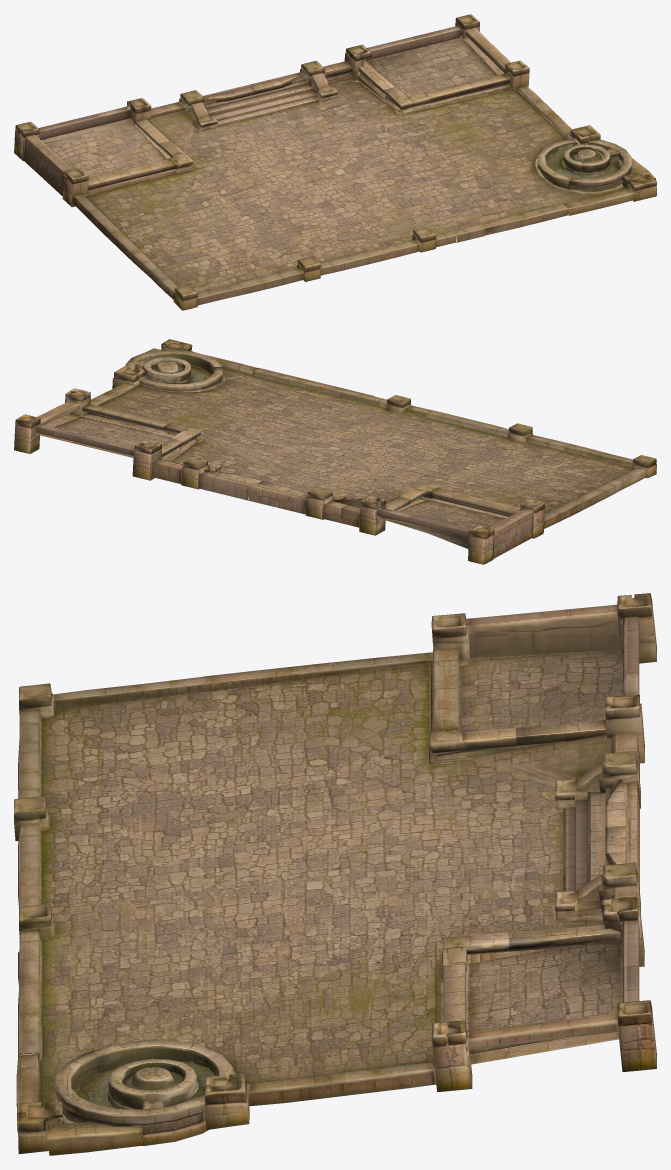
File: patio_vila_baltazar.glb
3 renders of one model, top to bottom at view 1: azimuth 30°, elevation 25°; view 2: azimuth 150°, elevation 25°; view 3: azimuth 270°, elevation 25°, orthographic. The views are drawn at different scales.
Parts seen in each view (by area): view 1: tripo_node_551e6b5b-3138-4928-b8f1-0ac37b3d8f48; view 2: tripo_node_551e6b5b-3138-4928-b8f1-0ac37b3d8f48; view 3: tripo_node_551e6b5b-3138-4928-b8f1-0ac37b3d8f48.
Boxes of the visible parts, box(x1,y1,x2,y2) form: tripo_node_551e6b5b-3138-4928-b8f1-0ac37b3d8f48: box(14, 14, 656, 310); tripo_node_551e6b5b-3138-4928-b8f1-0ac37b3d8f48: box(14, 339, 656, 564); tripo_node_551e6b5b-3138-4928-b8f1-0ac37b3d8f48: box(14, 593, 656, 1155).
Size of the model in its own units: 0.9995 by 0.1284 by 0.6099.
1 material, 1 textured.
